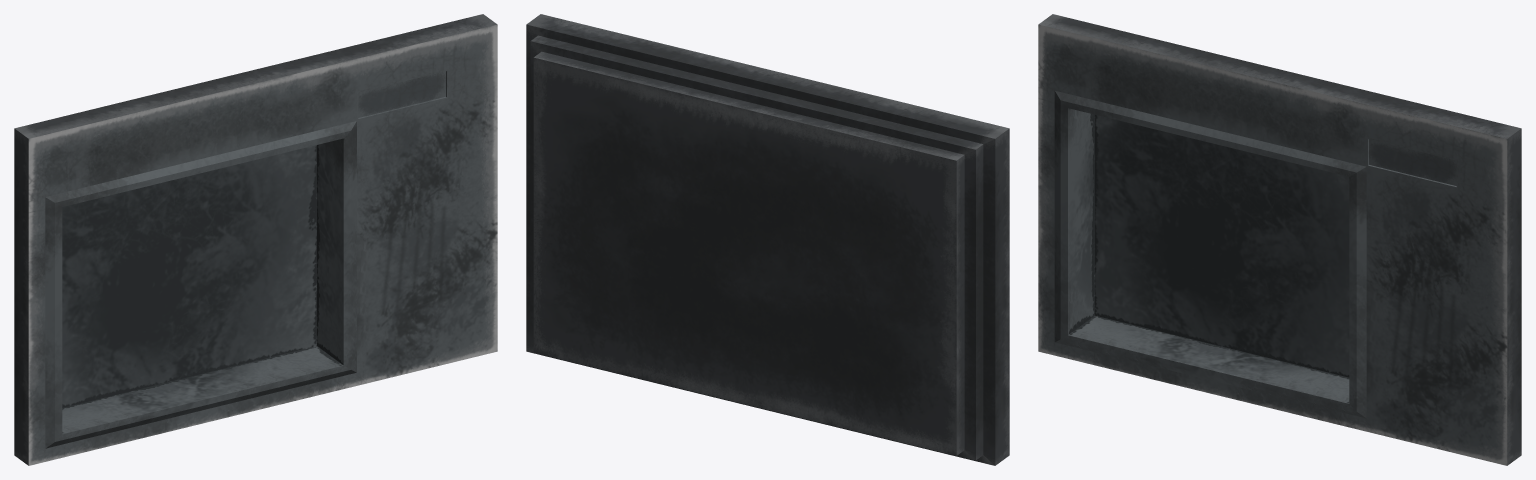
The model's file is safe_deposit_box_door.fbx.
3 views of the same model, side by side, from view 1: azimuth 30°, elevation 25°; view 2: azimuth 150°, elevation 25°; view 3: azimuth 330°, elevation 25° (orthographic).
Visible parts, largest first — view 1: Safe_Door; view 2: Safe_Door; view 3: Safe_Door.
Boxes of the visible parts, x1,y1,x2,y2 form: Safe_Door: (14, 14, 497, 465); Safe_Door: (526, 14, 1009, 465); Safe_Door: (1038, 14, 1521, 465).
Size of the model in its own units: 135 by 90 by 16.01.
